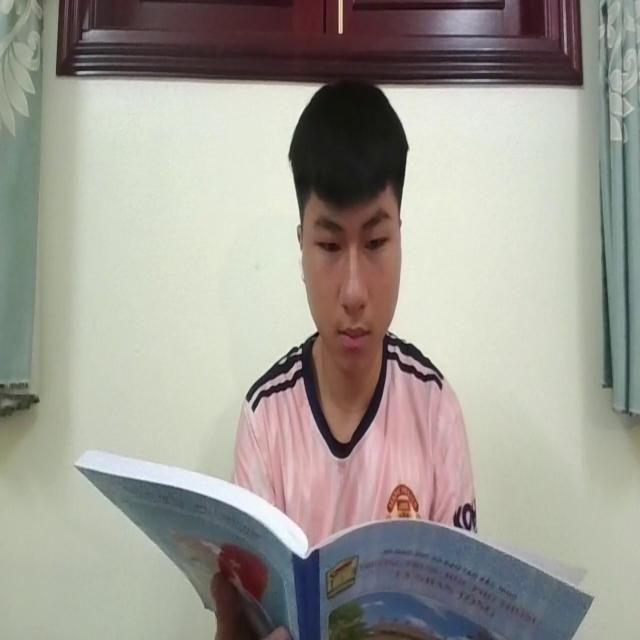book: (78, 441, 592, 640)
student: (234, 77, 471, 517)
